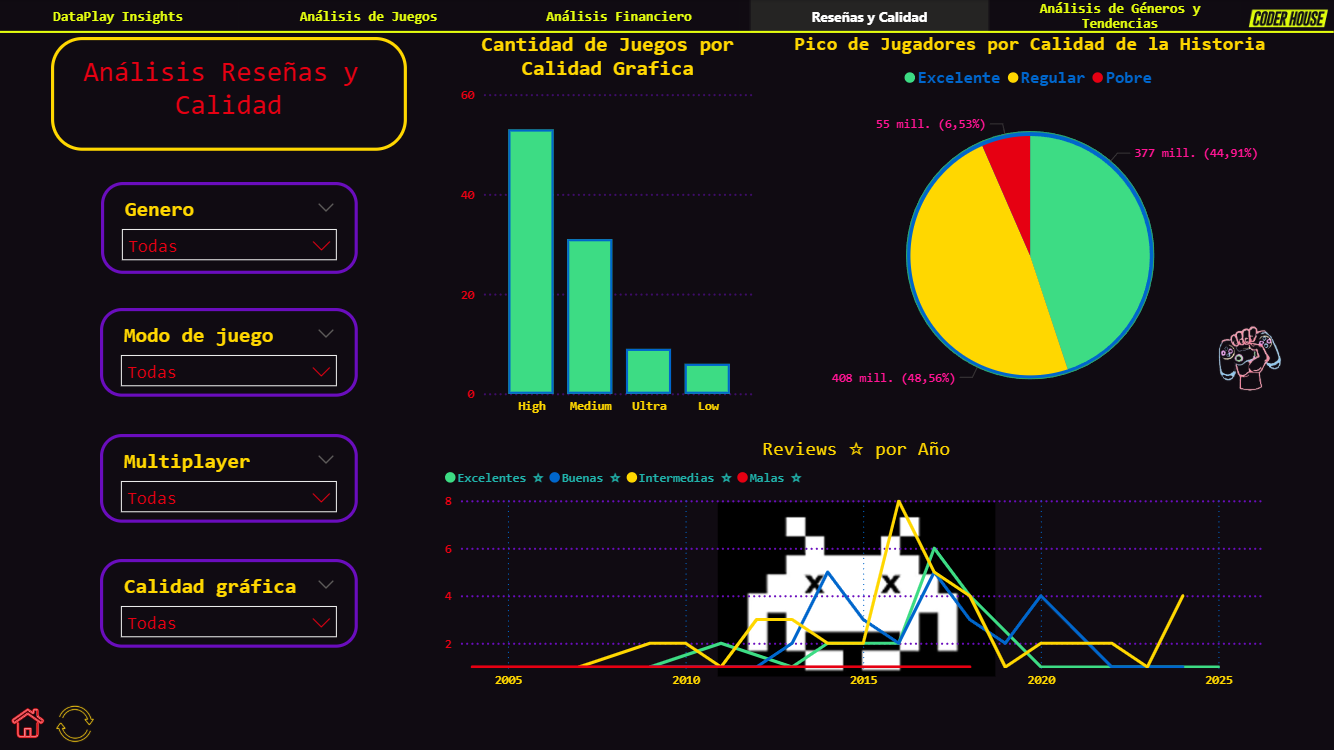

The dashboard page shown, as its layout file describes it:
{"tool":"powerbi","page":{"name":"Reseñas y Calidad","canvas":[1280,720],"ordinal":3},"visuals":[{"type":"shape","box":[870,126,238,238],"z":0},{"type":"image","box":[672.8,476.7,300,176.6],"z":1000},{"type":"slicer","fields":{"Values":["Tabla Complementaria Reviews.Genero"]},"box":[98.4,174.9,245.9,87.9],"z":2000},{"type":"slicer","fields":{"Values":["Tabla Tipo de Juego.Modo de juego"]},"box":[98,296.5,246.8,85.2],"z":3000},{"type":"slicer","fields":{"Values":["Tabla Tipo de Juego.Multiplayer"]},"box":[98,416.3,246.8,85.2],"z":4000},{"type":"textbox","box":[50.7,36.2,340.6,108.7],"z":5000},{"type":"image","box":[0,667.7,56.7,52.3],"z":6000},{"type":"image","box":[1192.2,0,87.8,36.4],"z":7000},{"type":"pieChart","title":"Pico de Jugadores por Calidad de la Historia","fields":{"Category":["Tabla Calidad.Calidad de la historia"],"Y":["B-Picos Medidas.Recuento de Picos Historicos"]},"box":[754.5,32,467.8,374.6],"z":8000},{"type":"slicer","fields":{"Values":["Tabla Calidad.Calidad gráfica"]},"box":[98,536.1,246.8,85.2],"z":9000},{"type":"columnChart","title":"Cantidad de Juegos por Calidad Grafica ","fields":{"Category":["Tabla Calidad.Calidad gráfica"],"Y":["CountNonNull(Tabla Actualizada Normalizada.Titulo del Juego)"]},"box":[422.5,32,308,374.6],"z":10000},{"type":"lineChart","title":"Reviews ☆ por Año","fields":{"Y":["A- Reviews Medidas.Excelentes 5 - 4.7","A- Reviews Medidas.Bueno 4.6 - 4.5","A- Reviews Medidas.Intermedio 4.4-3","A- Reviews Medidas.Malas 2.9 - 1"],"Category":["Tabla Calendario.Año"]},"box":[422.5,416.3,799.8,251.2],"z":11000},{"type":"image","box":[50.5,667.7,46.1,52.3],"z":12000},{"type":"image","box":[1161.1,307.1,75.5,74.6],"z":13000},{"type":"pageNavigator","box":[0,0,1192.2,33],"z":14000},{"type":"shape","box":[0,11.9,1279.7,40],"z":15000}]}

Visuals, with their boxes in screenshot pixels (x1, y1, x2, y2), scaled from the page's 1280x720 canvas onto the 1334x750 screenshot:
shape: 907:131:1155:379
image: 701:497:1014:681
slicer - Tabla Complementaria Reviews.Genero: 103:182:359:274
slicer - Tabla Tipo de Juego.Modo de juego: 102:309:359:398
slicer - Tabla Tipo de Juego.Multiplayer: 102:434:359:522
textbox: 53:38:408:151
image: 0:696:59:749
image: 1242:0:1333:38
"Pico de Jugadores por Calidad de la Historia" pieChart: 786:33:1274:424
slicer - Tabla Calidad.Calidad gráfica: 102:558:359:647
"Cantidad de Juegos por Calidad Grafica " columnChart: 440:33:761:424
"Reviews ☆ por Año" lineChart: 440:434:1274:695
image: 53:696:101:749
image: 1210:320:1289:398
pageNavigator: 0:0:1242:34
shape: 0:12:1333:54
